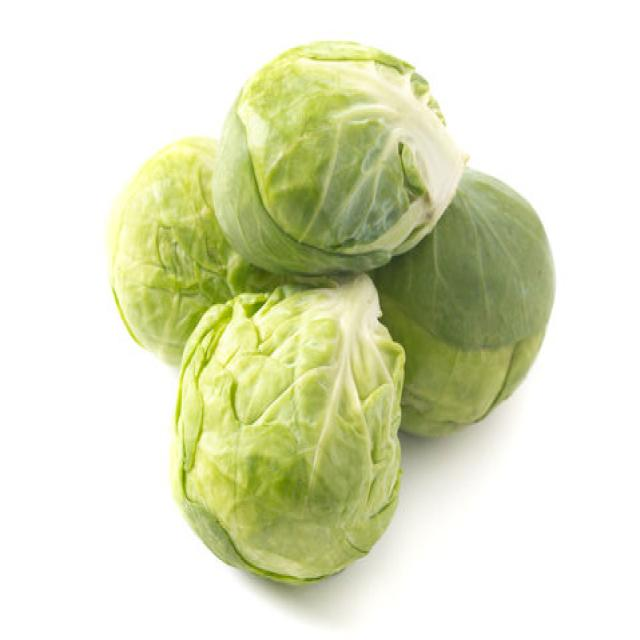Cabbage: (168, 272, 406, 585), (210, 38, 466, 278), (369, 164, 556, 439), (106, 134, 279, 366)
